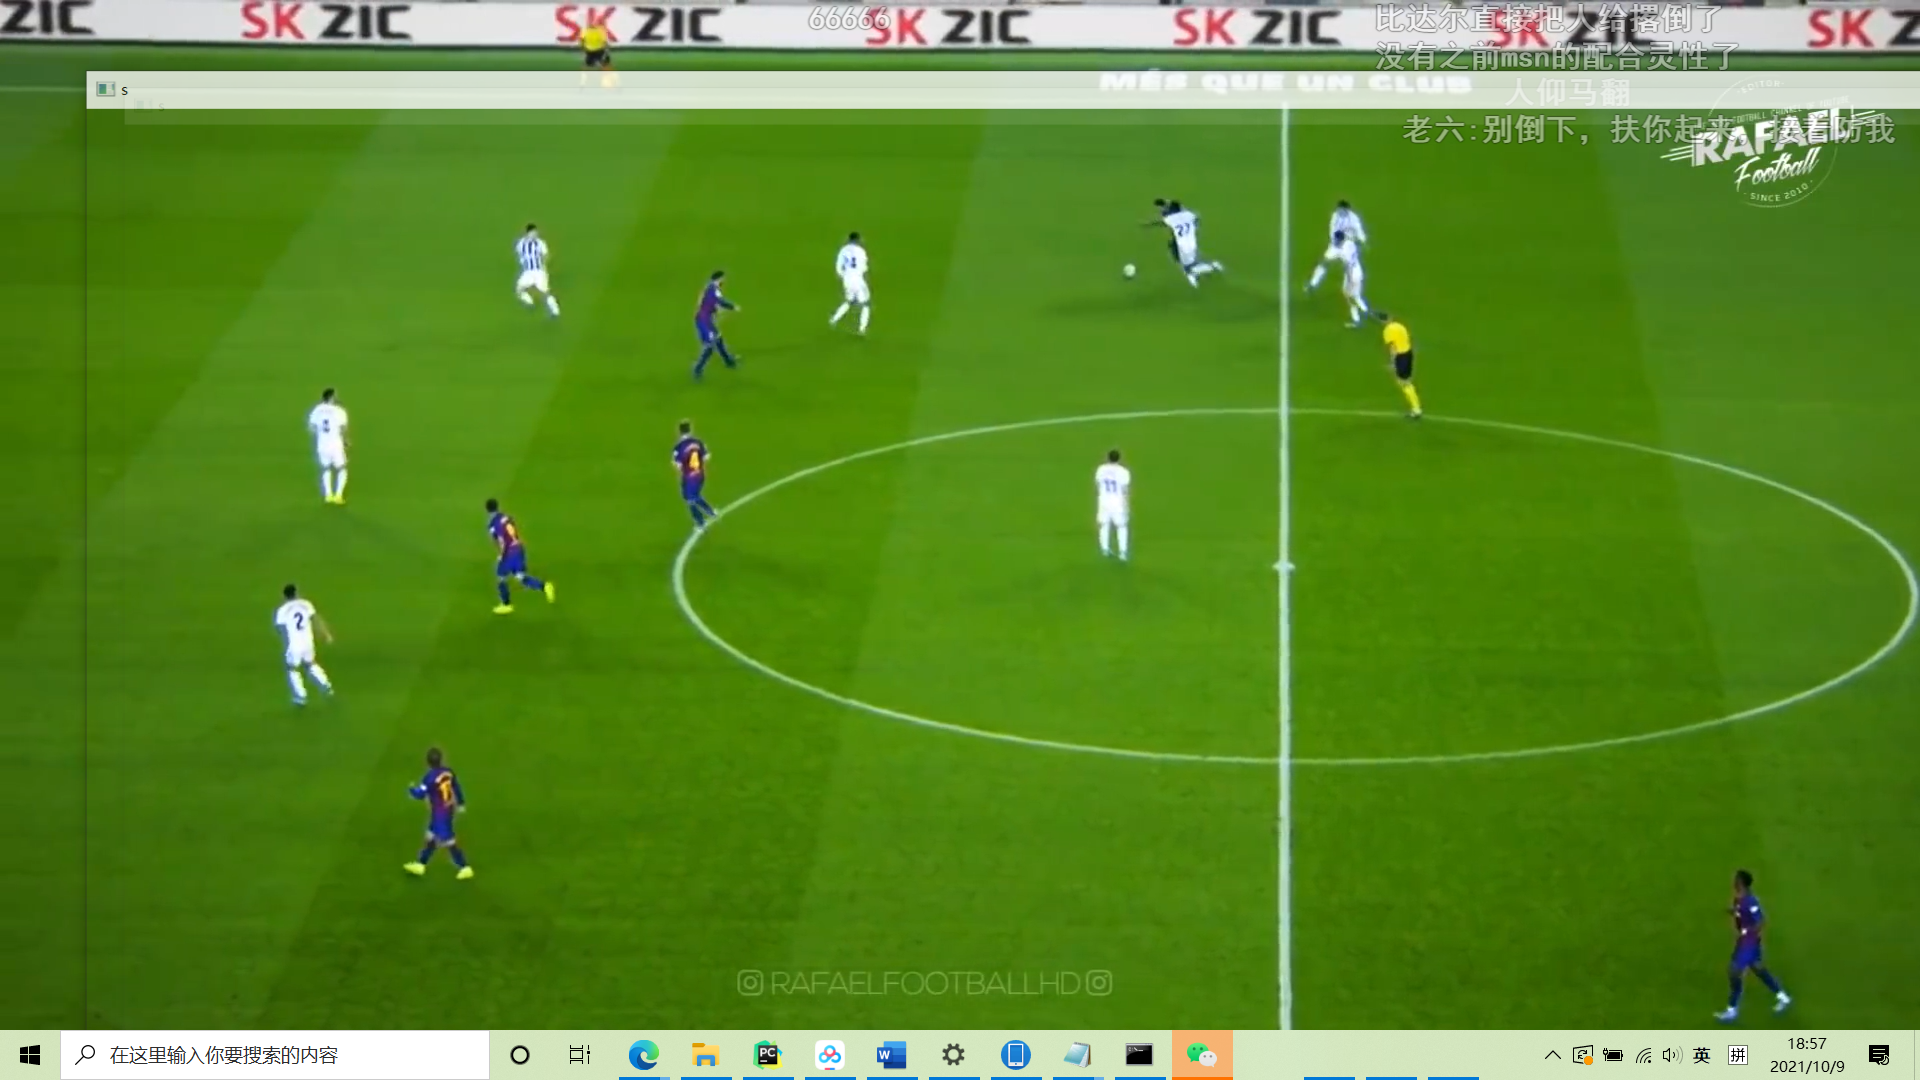ft: (1120, 262, 1138, 278)
